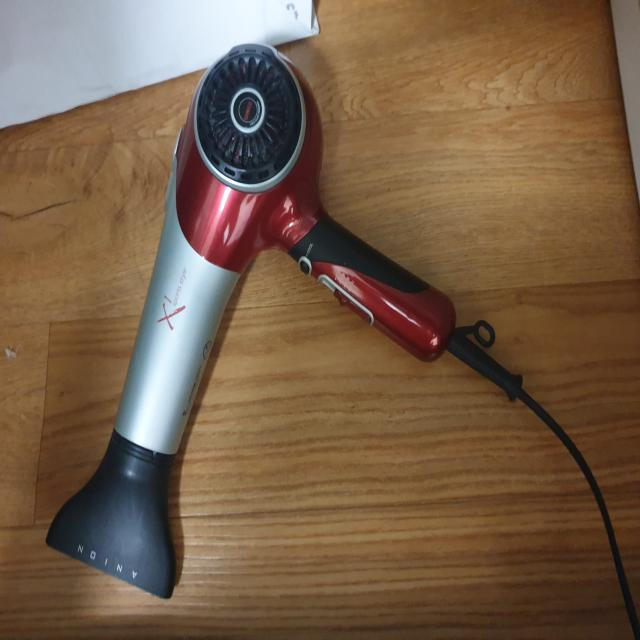dryer: (46, 40, 524, 601)
